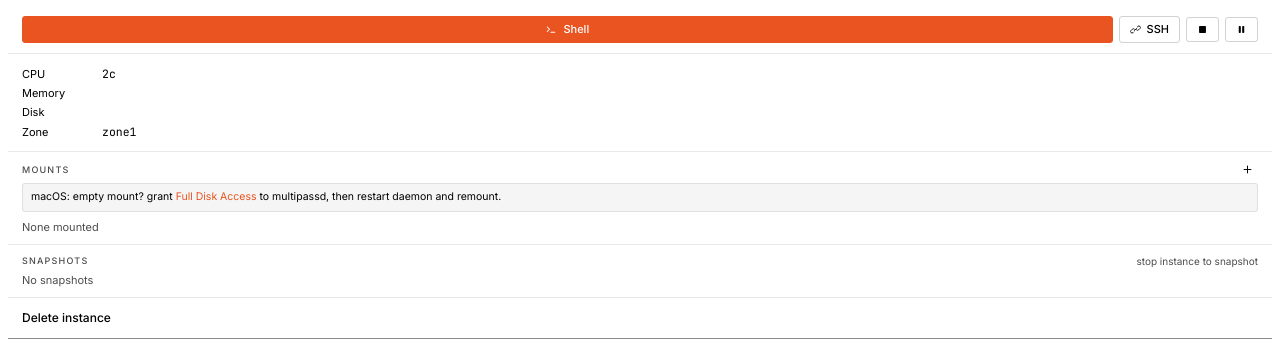
Test: does not clear a pending stop when an earlier suspend request fails
Click the button titled "Stop instance".
click(1202, 30)  # box 1186,17 -> 1219,42
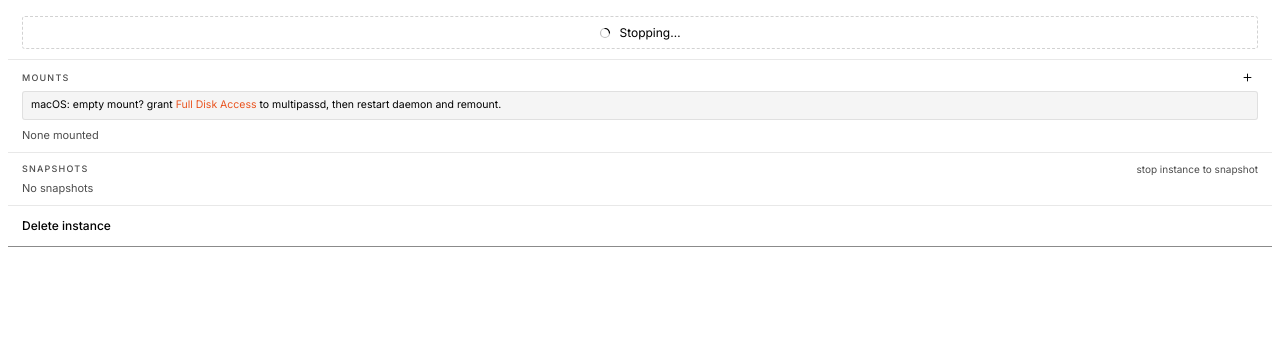
Expected: the text "Stopping…" is shown, 22,16 -> 1258,49
